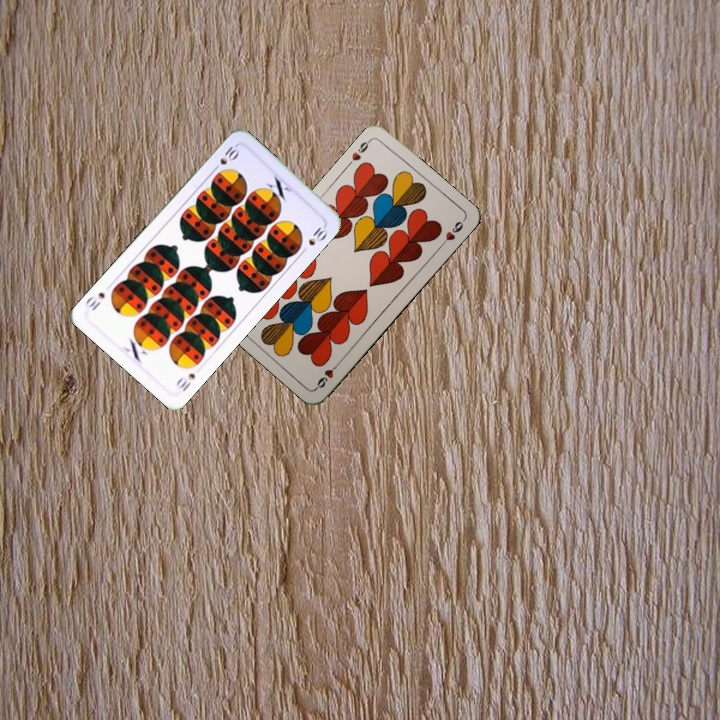H9: (343, 135, 374, 169), (312, 358, 343, 391)
S10: (208, 141, 242, 174), (172, 369, 198, 394)
